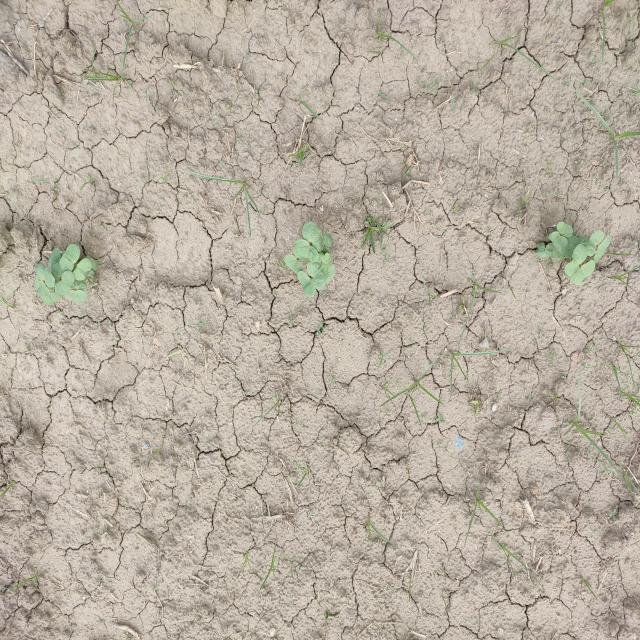seedling_s2: (302, 222, 325, 253), (565, 244, 587, 276), (570, 260, 595, 285), (59, 244, 80, 272), (295, 239, 319, 263), (54, 270, 75, 295), (35, 279, 54, 306), (307, 262, 325, 290), (35, 263, 55, 288), (298, 271, 316, 298), (586, 230, 604, 257), (73, 258, 92, 281), (594, 236, 610, 263), (549, 231, 568, 252), (564, 235, 579, 258), (284, 255, 302, 274), (47, 248, 61, 272), (537, 242, 554, 259), (550, 245, 565, 263), (65, 290, 87, 302), (52, 263, 63, 286), (557, 222, 573, 237), (321, 253, 331, 276), (325, 264, 336, 284), (86, 256, 99, 271), (71, 280, 87, 290), (50, 293, 63, 303), (316, 252, 324, 268), (323, 233, 332, 247)
